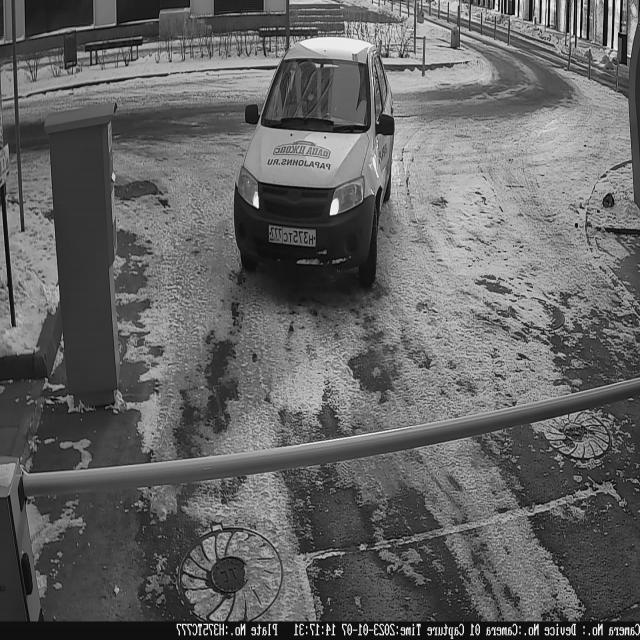car-plate-numbers: (268, 226, 319, 251)
